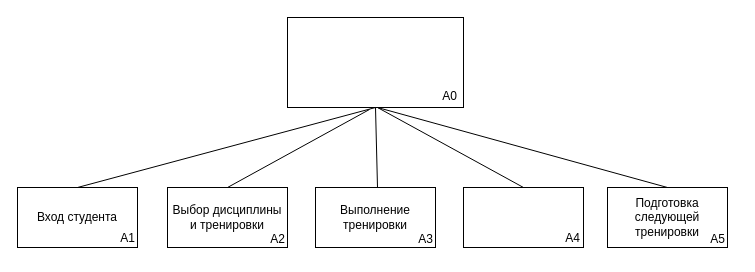
Image size: 755x272. Some labels were removed from this diagram. The box of each missing label's shape, as (x1, y1, x2, y2) in pixels:
Запись результата: (462, 186, 584, 248)
ИС Для тренировки памяти: (286, 16, 464, 108)
